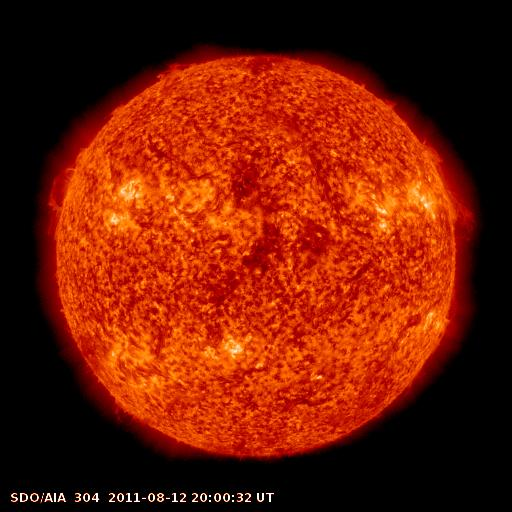prominence: (36, 142, 96, 245), (443, 185, 485, 235), (147, 54, 201, 90), (417, 131, 447, 173)
